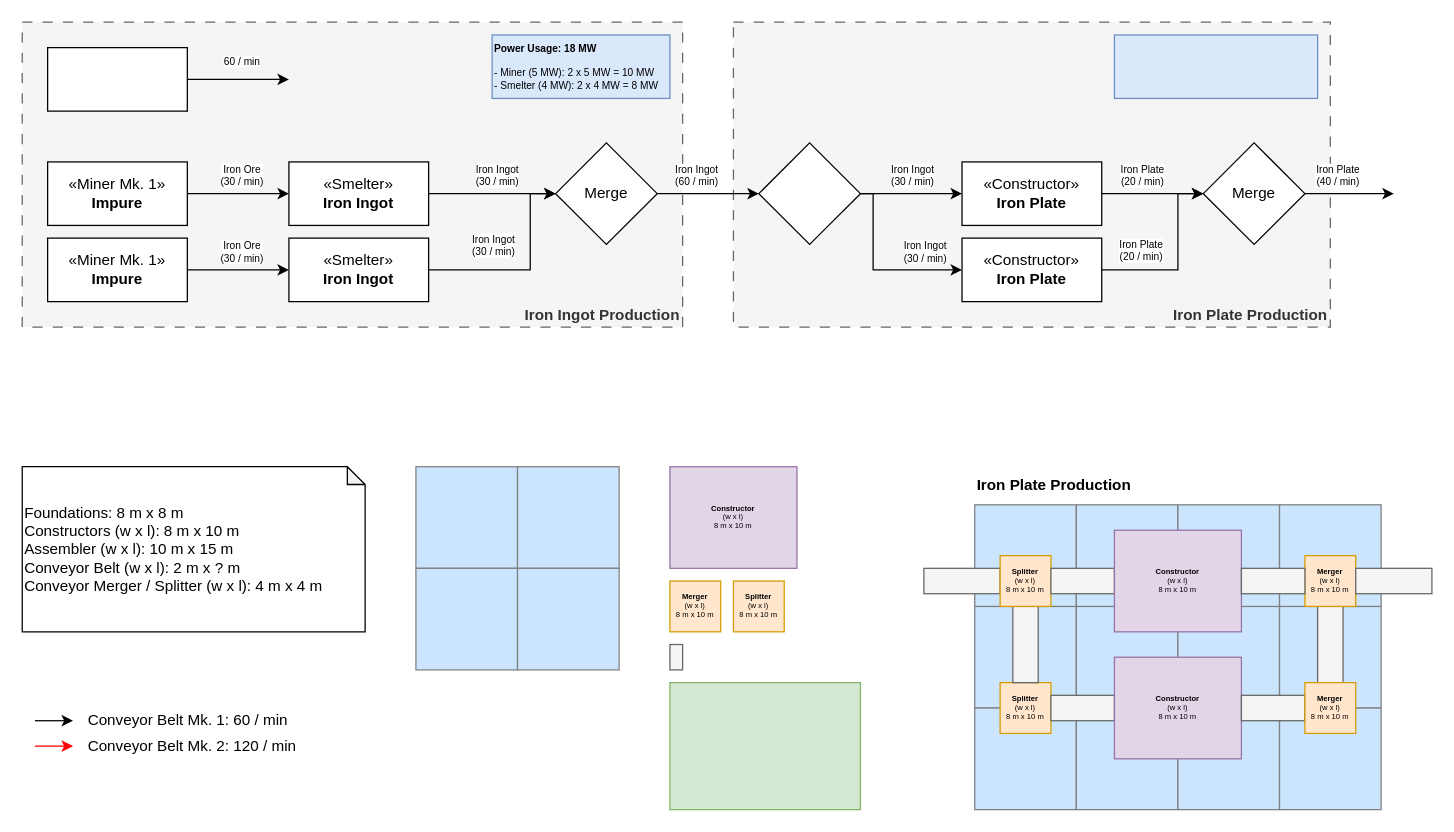
Some shapes in this 1454 by 832 pixel diagram are drawn without their labels. The shapes that lost their labels are listed below. From the top down, each one's centre as x and y in pixels, then its label:
At pixel 116 78: "«Miner Mk. 1» Normal".
At pixel 1215 66: "Power Usage: 8 MW - Constructor (4 MW): 2 x 4 MW = 8 MW".
At pixel 809 193: "Split".
At pixel 764 745: "Assembler (w x l) 10 m x 15 m".
